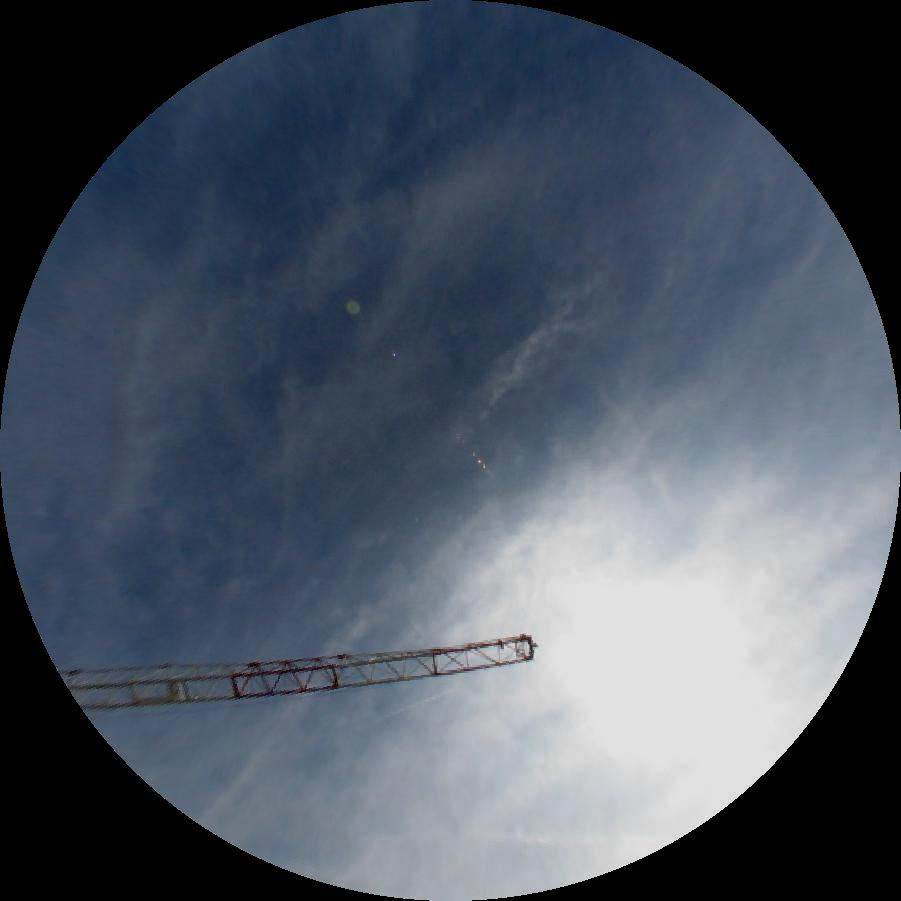contrail young: (351, 688, 450, 735)
